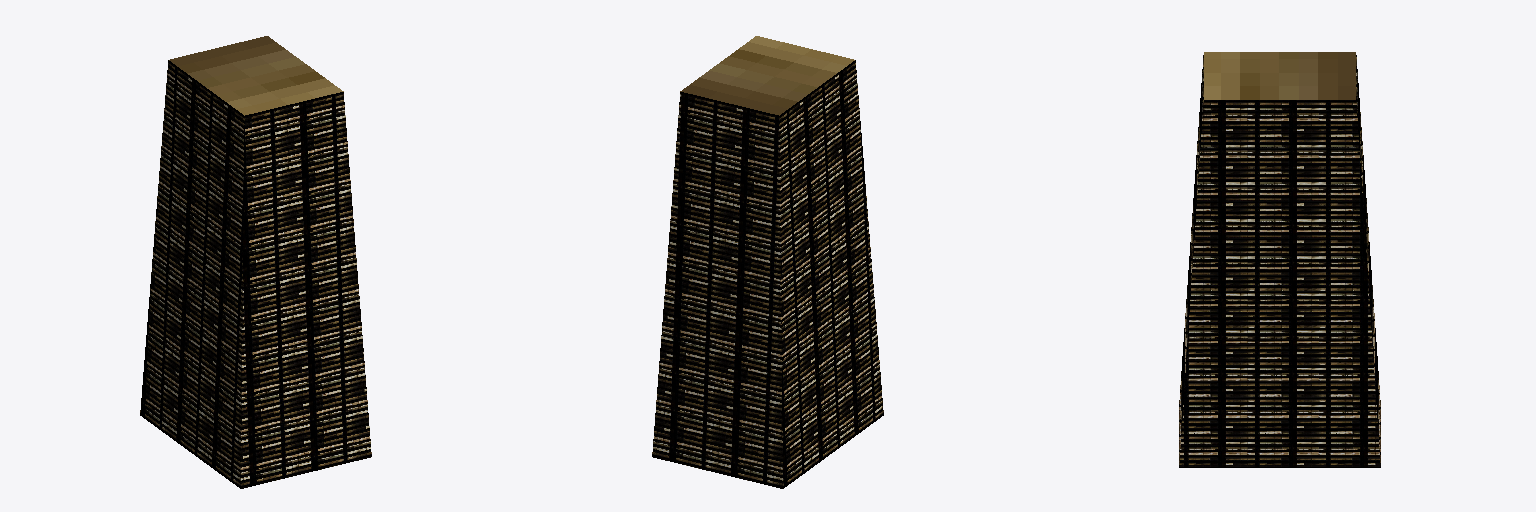
3 views of the same model, side by side, from view 1: azimuth 30°, elevation 25°; view 2: azimuth 150°, elevation 25°; view 3: azimuth 270°, elevation 25° (orthographic).
Parts seen in each view (by area): view 1: Cube.002_Cube.000; view 2: Cube.002_Cube.000; view 3: Cube.002_Cube.000.
Part boxes in pixels (x1,y1,x2,y2): Cube.002_Cube.000: (140,36,371,488); Cube.002_Cube.000: (652,36,883,488); Cube.002_Cube.000: (1179,52,1380,467).
Size of the model in its own units: 0.75 by 1.97 by 1.
Materials: 1 (1 with a texture image).